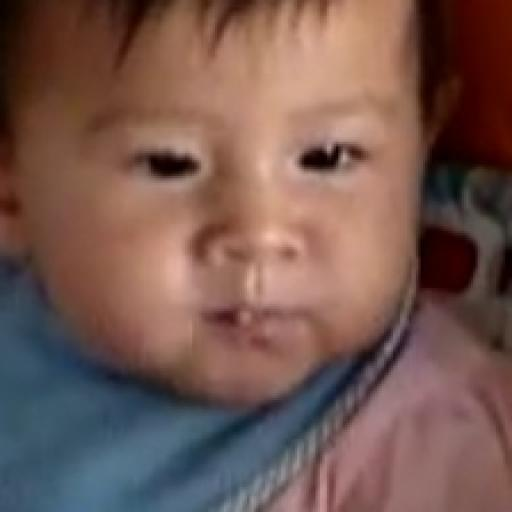Autism: (7, 0, 479, 474)
